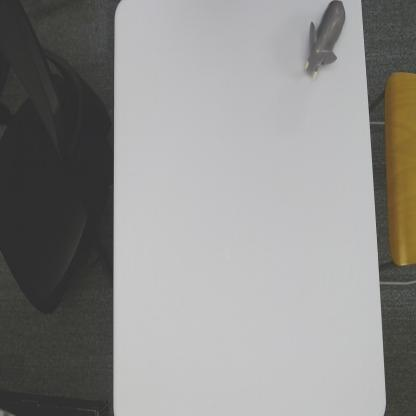Elephant: (305, 0, 346, 80)
